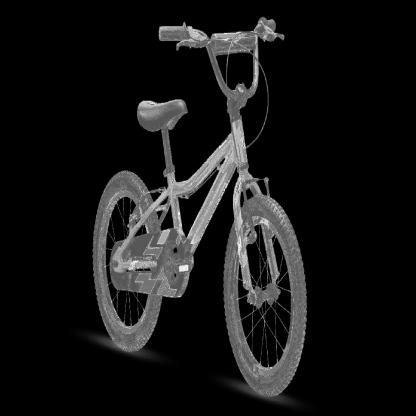Bike: (84, 16, 312, 402)
